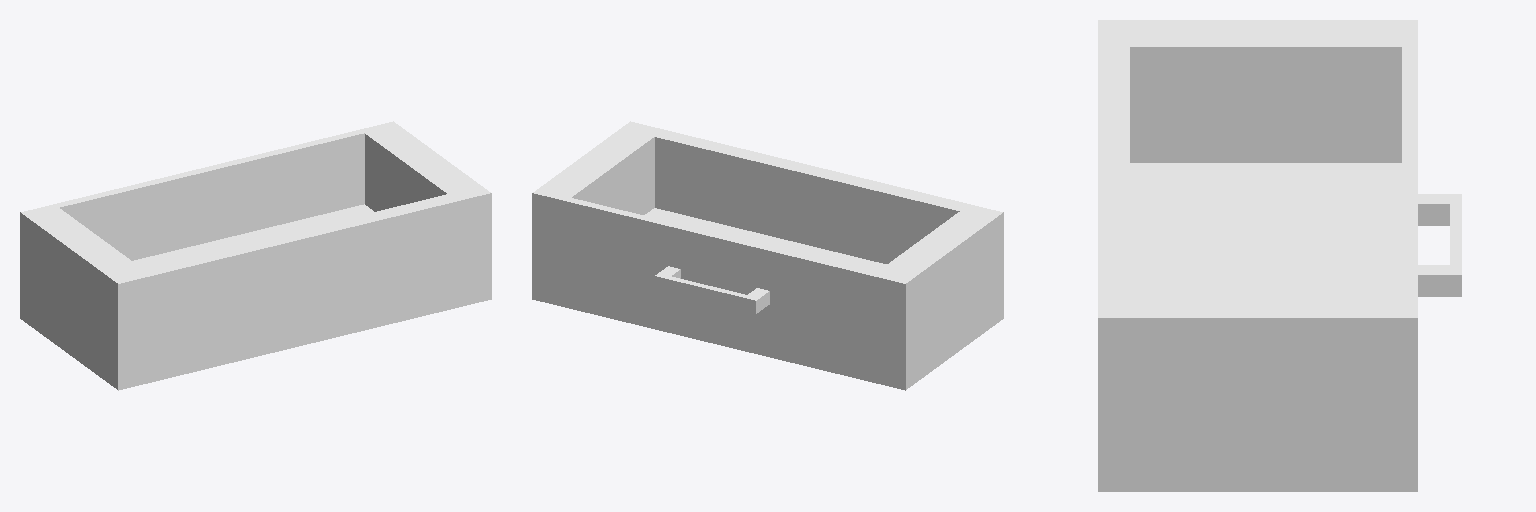
The robot description file, URDF, robot "compartment":
<?xml version="1.0" ?>
<robot name="compartment">
 <link name="baseLink">
   <contact>
     <lateral_friction value="0.5"/>
   </contact>
   <inertial>
     <origin rpy="0 0 0" xyz="0.400006 0.164337 0.515558"/>
      <mass value="0.0"/>
      <inertia ixx="0.000100" ixy="-0.000000" ixz="0.000000" iyy="0.000160" iyz="0.000006" izz="0.000243"/>
   </inertial>
   <visual>
     <origin rpy="0 0 0" xyz="0 0.2 0"/>
     <geometry>
       <mesh filename="compartment.obj" scale="1.0 0.5 1.0"/>
     </geometry>
      <material name="white">
       <color rgba="1 1 1 1"/>
     </material>
   </visual>
   <collision>
     <origin rpy="0 0 0" xyz="0 0.2 0"/>
     <geometry>
       <mesh filename="compartment_vhacd2.obj" scale="1.0 0.5 1.0"/>
     </geometry>
   </collision>
 </link>

<link name="drawer">
    <contact>
     <lateral_friction value="0.5"/>
   </contact>
   <inertial>
     <origin rpy="0 0 0" xyz="0.399998 0.224967 0.532091"/>
      <mass value="1.0"/>
      <inertia ixx="0.000124" ixy="0.000000" ixz="0.000000" iyy="0.000127" iyz="0.000001" izz="0.000238"/>
   </inertial>
   <visual>
     <origin rpy="0 0 0" xyz="0 0.2 0"/>
     <geometry>
       <mesh filename="drawer.obj" scale="1.0 0.5 1.0"/>
     </geometry>
      <material name="white">
       <color rgba="1 1 1 1"/>
     </material>
   </visual>
   <collision>
     <origin rpy="0 0 0" xyz="0 0.2 0"/>
     <geometry>
       <mesh filename="drawer_vhacd2.obj" scale="1.0 0.5 1.0"/>
     </geometry>
   </collision>
 </link>

 <joint name="compartment_2_drawer" type="prismatic">
    <origin rpy="0 0 0" xyz="0 0 0"/>
    <parent link="baseLink"/>
    <child link="drawer"/>
    <dynamics damping="1.0" friction="0.05"/>
    <limit effort="30" lower="0.0" upper="0.165" velocity="3.0"/>
    <axis xyz="0 1 0"/>
  </joint>
</robot>

--- Render facts (derived) ---
The picture shows the robot from 3 angles, left to right: view 1: azimuth 30°, elevation 25°; view 2: azimuth 150°, elevation 25°; view 3: azimuth 270°, elevation 25°; orthographic projection.
Robot: compartment — 2 links, 1 joints (1 prismatic); root link baseLink; default pose: all joints at 0.
Visible links, largest first — view 1: baseLink, drawer; view 2: drawer, baseLink; view 3: drawer, baseLink.
Boxes of the visible links, x1,y1,x2,y2 form: baseLink: (25,125,491,390); drawer: (20,121,468,321); drawer: (532,129,980,390); baseLink: (537,121,1003,386); drawer: (1114,20,1461,491); baseLink: (1098,20,1401,491).
Size in the robot's own frame: 0.44 by 0.2275 by 0.12 metres.
2 mesh visuals loaded from 2 distinct referenced files (2 OBJ).